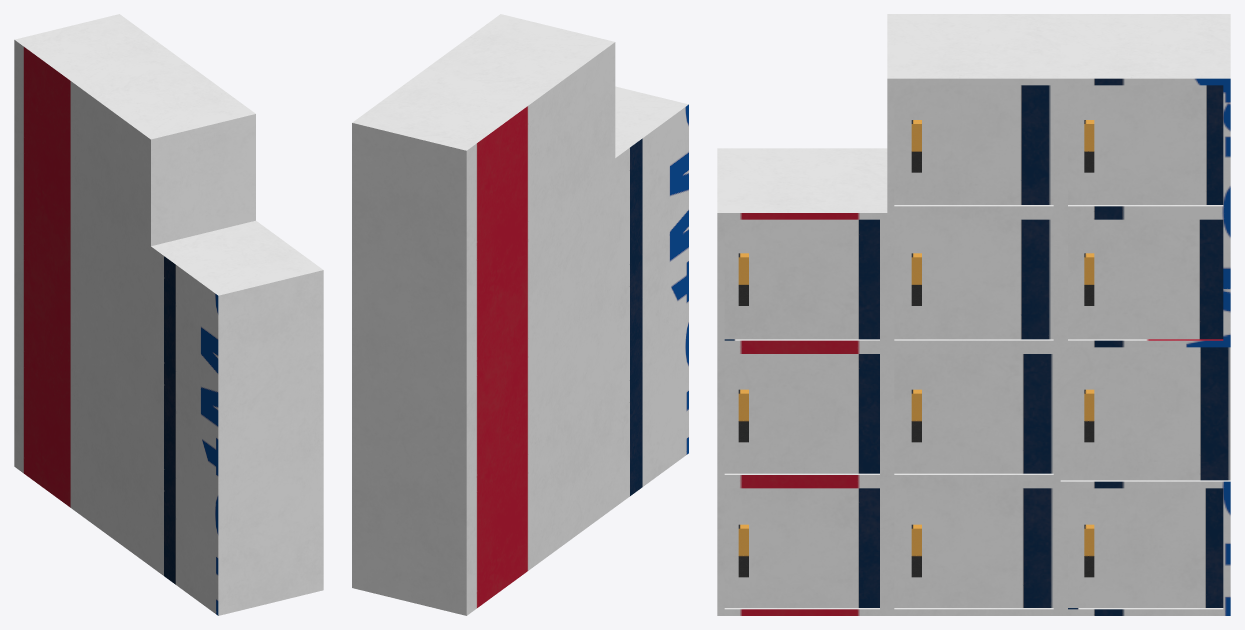
The model's file is Cabinets.fbx.
3 renders of one model, left to right at view 1: azimuth 30°, elevation 25°; view 2: azimuth 150°, elevation 25°; view 3: azimuth 270°, elevation 25°, orthographic. The views are drawn at different scales.
Visible parts, largest first — view 1: Cabinets; view 2: Cabinets; view 3: Cabinets, Handle.
Boxes of the visible parts, left/top/right/bottom form: Cabinets: left=14, top=14, right=323, bottom=615; Cabinets: left=352, top=14, right=688, bottom=615; Cabinets: left=717, top=14, right=1230, bottom=615; Handle: left=738, top=120, right=1094, bottom=577.
Size of the model in its own units: 48.35 by 181 by 156.
